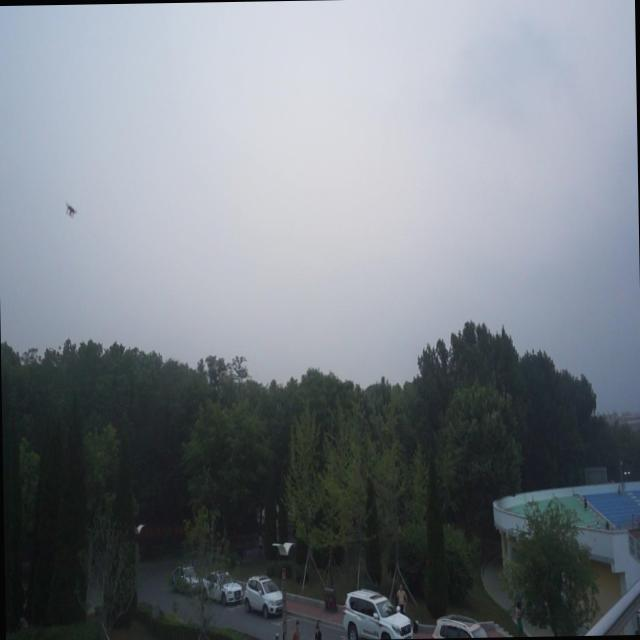drone: (64, 198, 80, 220)
